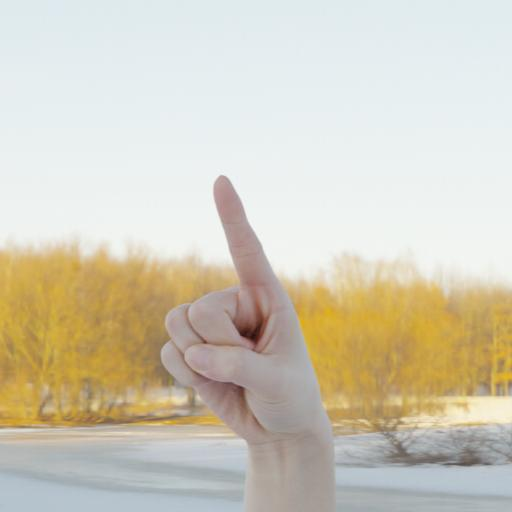nothing: (154, 169, 335, 445)
